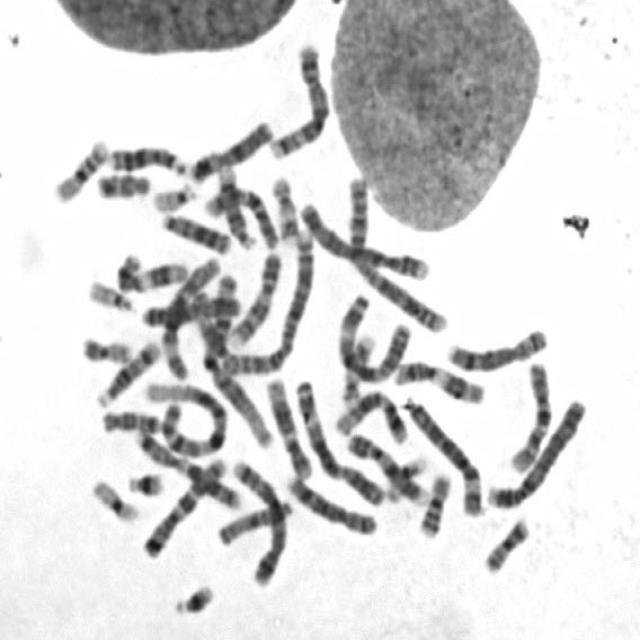A1: (193, 274, 276, 450), (140, 373, 232, 459)
A2: (339, 170, 450, 336), (206, 223, 317, 377)
A3: (292, 373, 389, 508), (332, 286, 415, 385)
B4: (482, 390, 590, 512), (293, 195, 432, 282)
B5: (264, 36, 334, 161), (228, 453, 288, 587)
C10: (505, 354, 555, 476), (197, 179, 280, 249)
C11: (389, 354, 488, 406), (112, 246, 192, 294)
C12: (260, 370, 314, 480), (330, 385, 410, 444)
C6: (400, 390, 486, 518), (154, 248, 223, 382)
C7: (136, 448, 231, 561), (132, 422, 247, 510)
C8: (280, 468, 380, 536), (443, 320, 551, 373)
C9: (339, 425, 429, 506), (224, 243, 284, 349)
D13: (157, 205, 234, 255), (104, 138, 189, 176)
D14: (92, 333, 164, 409), (212, 159, 258, 250)
D15: (180, 266, 236, 364), (210, 492, 294, 547)
E16: (48, 131, 112, 205), (415, 466, 453, 539)
E17: (336, 328, 377, 407), (267, 170, 301, 245)
E18: (92, 166, 154, 201), (96, 403, 162, 435)
F19: (87, 473, 142, 523), (381, 448, 430, 504)
F20: (479, 510, 533, 576), (76, 329, 136, 365)
G21: (167, 576, 217, 618), (123, 465, 168, 498)
G22: (84, 274, 138, 314), (148, 176, 200, 214)
X: (185, 113, 276, 184), (135, 289, 246, 329)
